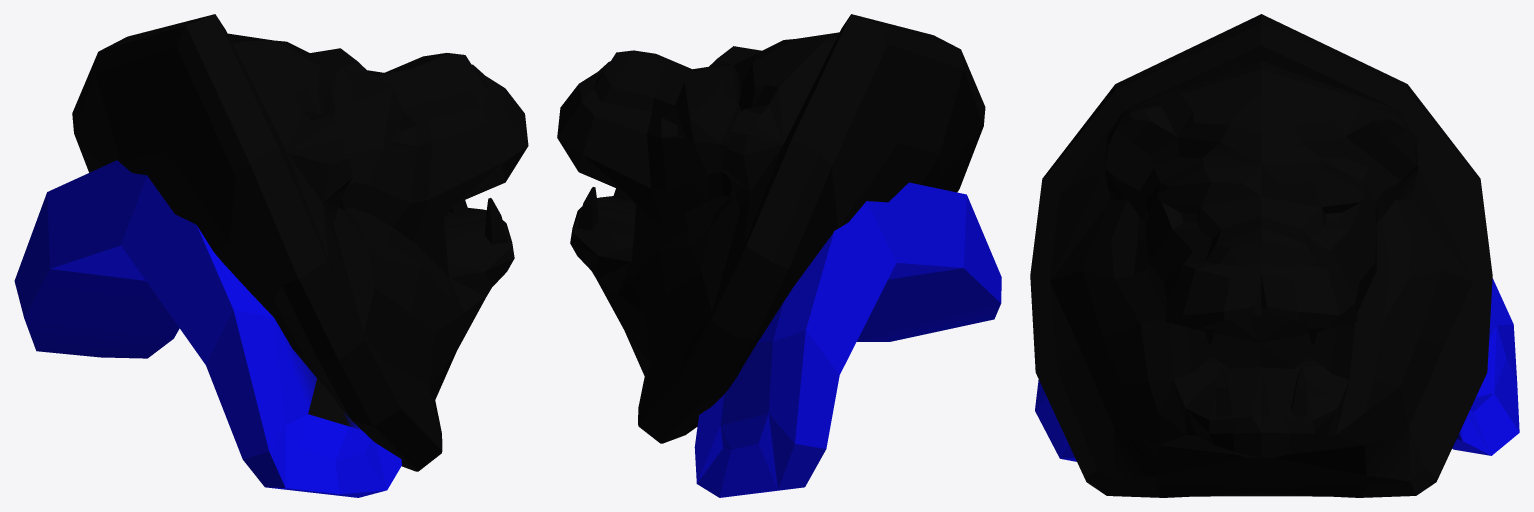
The model's file is Chr_ShoulderAttachLeft_Static_18.fbx.
3 views of the same model, side by side, from view 1: azimuth 30°, elevation 25°; view 2: azimuth 150°, elevation 25°; view 3: azimuth 270°, elevation 25° (orthographic). The views are drawn at different scales.
Visible parts, largest first — view 1: Chr_ShoulderAttachLeft_18; view 2: Chr_ShoulderAttachLeft_18; view 3: Chr_ShoulderAttachLeft_18.
Boxes of the visible parts, x1,y1,x2,y2 form: Chr_ShoulderAttachLeft_18: (14,14,528,497); Chr_ShoulderAttachLeft_18: (557,14,1001,497); Chr_ShoulderAttachLeft_18: (1030,14,1519,497).
Bounding box in the file's own units: 27.54 × 30.46 × 32.27.
